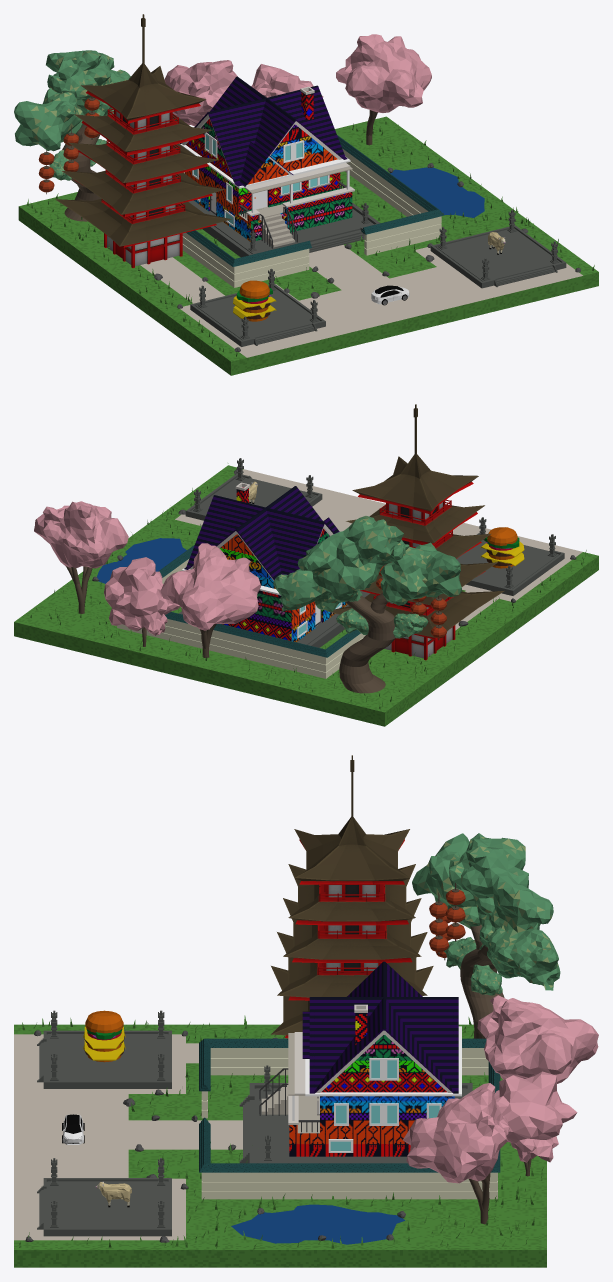
3 renders of one model, top to bottom at view 1: azimuth 30°, elevation 25°; view 2: azimuth 150°, elevation 25°; view 3: azimuth 270°, elevation 25°, orthographic. The views are drawn at different scales.
Visible parts, largest first — view 1: Cube.005, Cube.966, OBJRANDOM_HAMBURGER, VEHICLES_TESLA; view 2: Cube.005, Cube.966, OBJRANDOM_HAMBURGER; view 3: Cube.005, Cube.966, OBJRANDOM_HAMBURGER.
Part boxes in pixels (box(x1,y1,x2,y2)): Cube.005: box(14, 14, 598, 375); Cube.966: box(179, 76, 354, 248); OBJRANDOM_HAMBURGER: box(233, 280, 276, 321); VEHICLES_TESLA: box(371, 285, 409, 305); Cube.005: box(14, 404, 598, 726); Cube.966: box(181, 482, 347, 642); OBJRANDOM_HAMBURGER: box(480, 527, 524, 568); Cube.005: box(14, 755, 598, 1267); Cube.966: box(259, 961, 461, 1156); OBJRANDOM_HAMBURGER: box(83, 1010, 125, 1062).
Size of the model in its own units: 4528 by 2640 by 4389.
45 materials, 10 textured.
